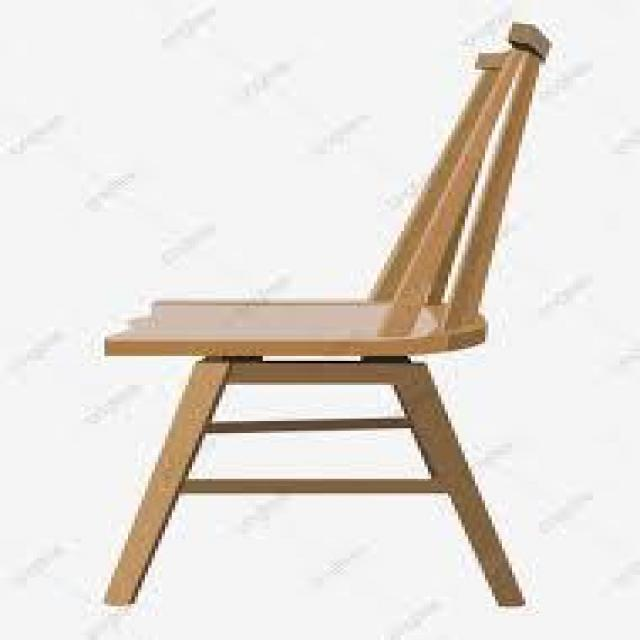chair: (42, 16, 601, 600)
